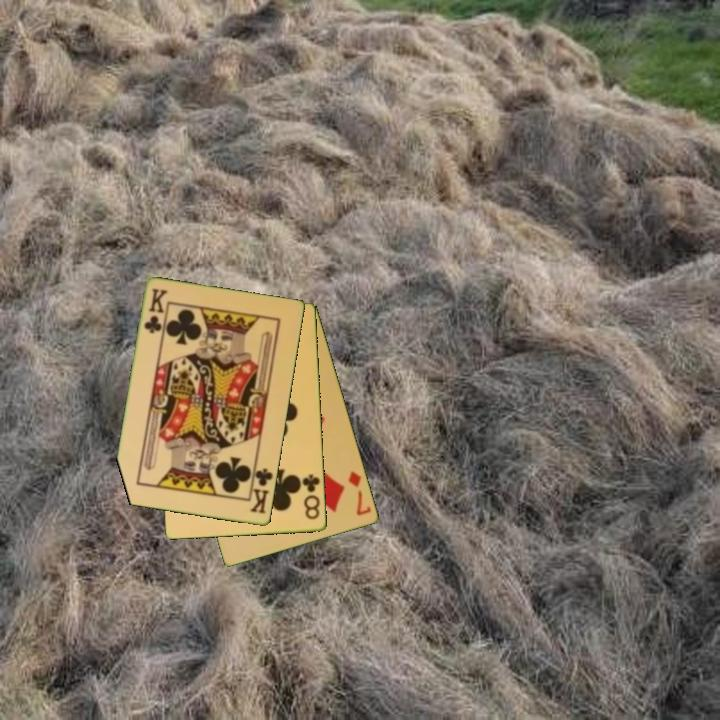7d: (345, 467, 374, 519)
8c: (299, 471, 323, 523)
Kc: (246, 461, 276, 517), (141, 285, 170, 337)
